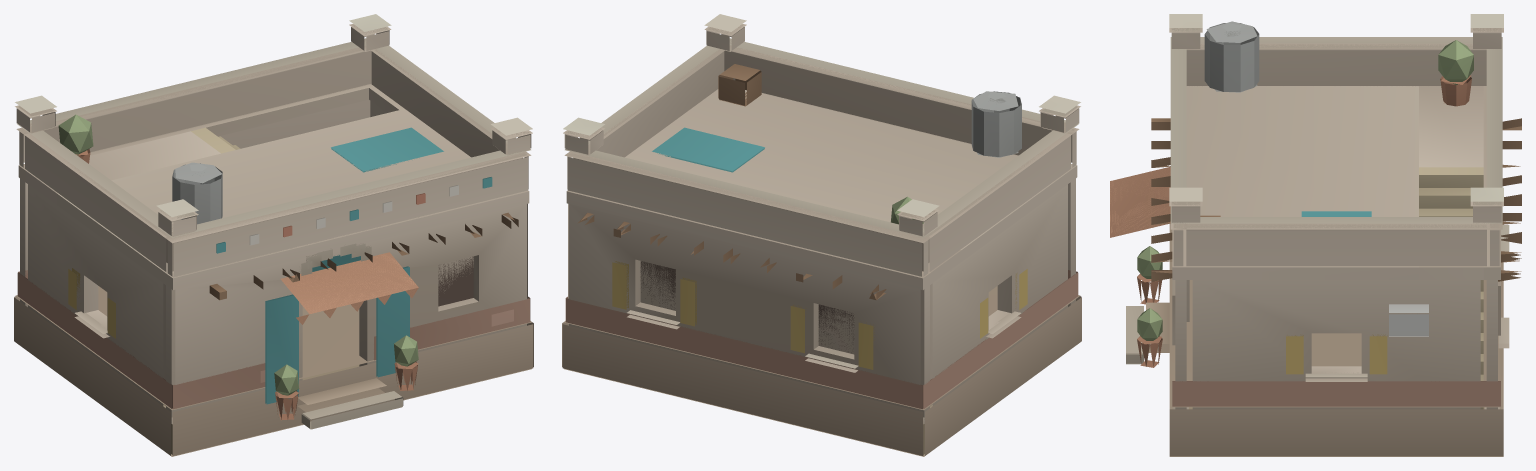
File: house_4.lod.glb
3 renders of one model, left to right at view 1: azimuth 30°, elevation 25°; view 2: azimuth 150°, elevation 25°; view 3: azimuth 270°, elevation 25°, orthographic. The views are drawn at different scales.
Parts seen in each view (by area): view 1: house_4; view 2: house_4; view 3: house_4.
Boxes of the visible parts, bbox=[...] form: house_4: bbox=[14, 14, 533, 456]; house_4: bbox=[562, 14, 1081, 456]; house_4: bbox=[1110, 14, 1521, 456].
Bounding box in the file's own units: 9.43 × 6 × 8.27.
